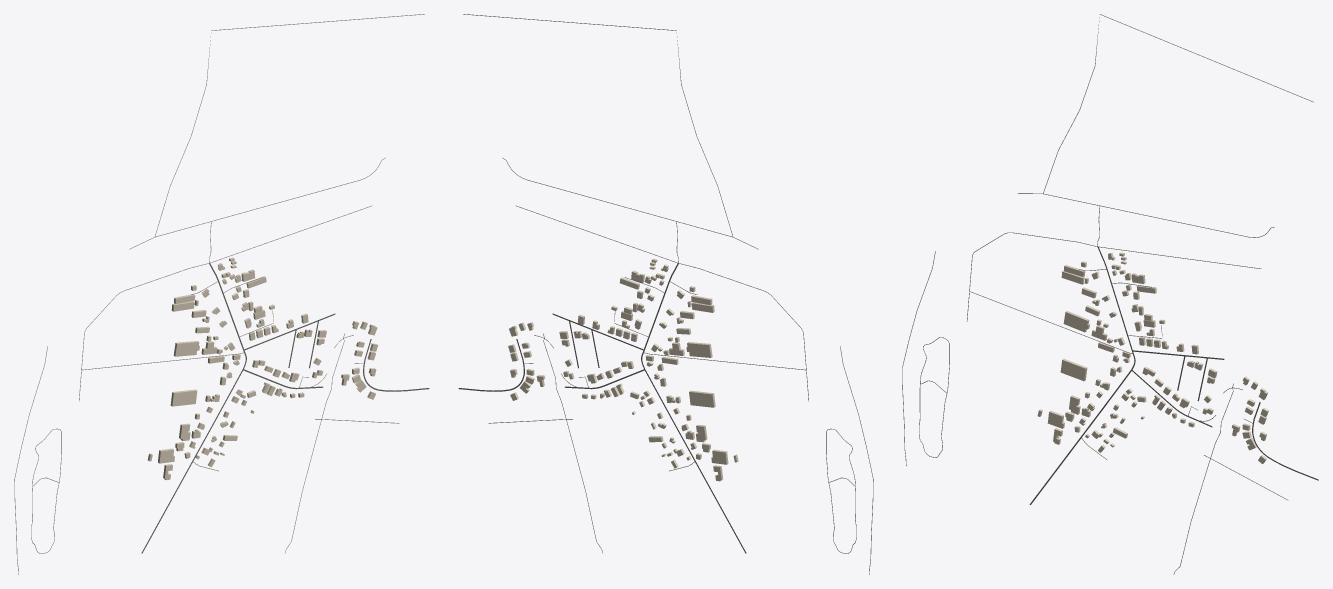
Rendered from historic-palestine-13_30_3548_3245.glb.
3 renders of one model, left to right at view 1: azimuth 30°, elevation 25°; view 2: azimuth 150°, elevation 25°; view 3: azimuth 330°, elevation 25°, orthographic.
Parts seen in each view (by area): view 1: Road .003; view 2: Road .003; view 3: Road .003.
Part boxes in pixels (box(x1,y1,x2,y2)): Road .003: box(141, 263, 246, 553); Road .003: box(641, 263, 746, 553); Road .003: box(1029, 247, 1135, 504).
Bounding box in the file's own units: 1111 × 1383 × 8.7.
